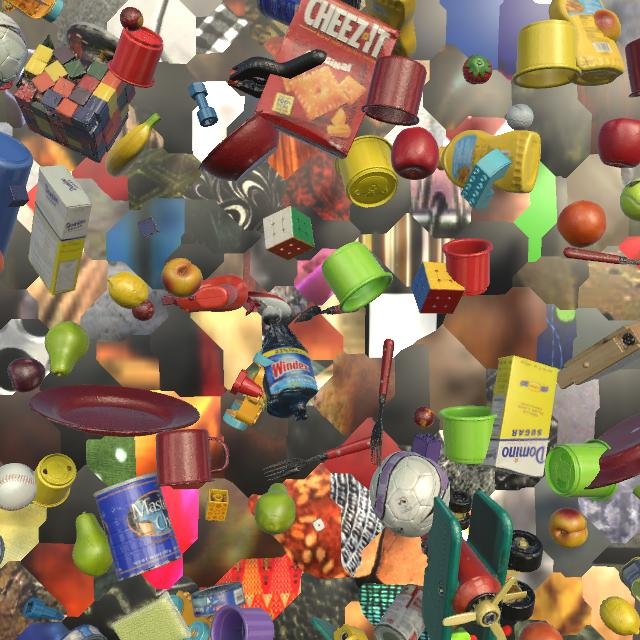ycb_002_master_chef_can: (94, 472, 182, 581), (256, 0, 361, 26)
ycb_003_cracker_box: (253, 0, 401, 160)
ycb_004_sugar_box: (482, 355, 558, 478), (28, 165, 92, 295)
ycb_005_tomato_soup_can: (374, 584, 426, 640)
ycb_006_mustard_bottle: (437, 130, 541, 193), (549, 0, 625, 86), (365, 0, 416, 58)
ycb_007_tuna_fish_can: (191, 582, 246, 617), (60, 624, 108, 640), (0, 535, 5, 564)
ycb_010_potted_meat_can: (619, 557, 640, 603)
ycb_011_banana: (105, 113, 161, 177), (499, 624, 501, 626)
ycb_012_strawberry: (463, 55, 493, 85)
ycb_013_apple: (391, 127, 439, 180), (597, 118, 640, 168)
ycb_014_lemon: (599, 596, 640, 636), (107, 272, 149, 309)
ycb_015_peach: (161, 258, 203, 298), (548, 508, 588, 549), (594, 9, 621, 43)
ycb_016_pear: (72, 512, 113, 577), (45, 321, 89, 377), (254, 483, 296, 535)
ycb_017_orange: (557, 200, 607, 248), (519, 622, 563, 640), (0, 251, 4, 274)
ycb_018_plum: (7, 357, 46, 393), (66, 75, 76, 84)
